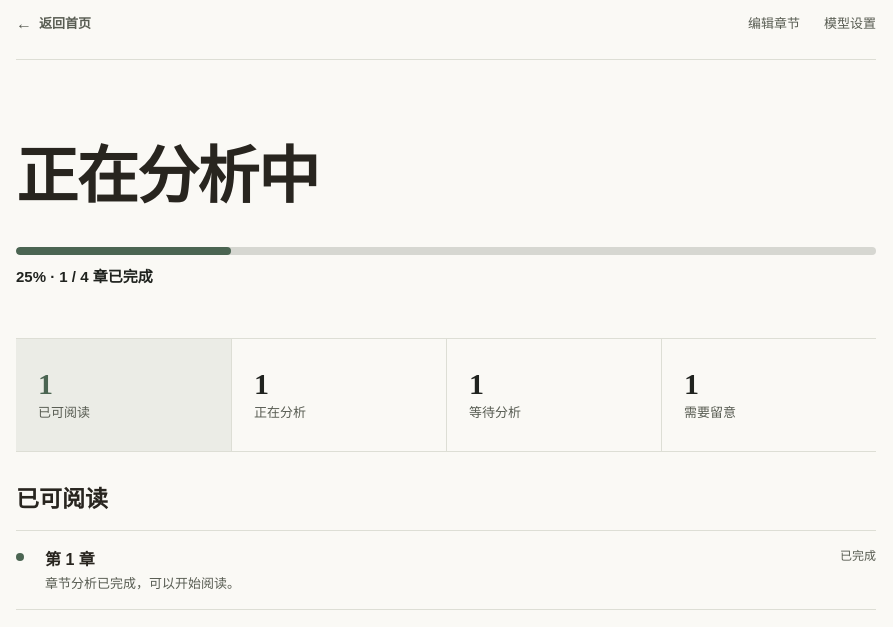
Scenario: OverviewPage analysis progress › omits redundant analysis progress copy
This screenshot has width=893, height=627.
Expected: the heading "正在分析中" is shown, [16,143,318,211]
Click the tab named "1正在分析": (338,395) [231,339,446,451]
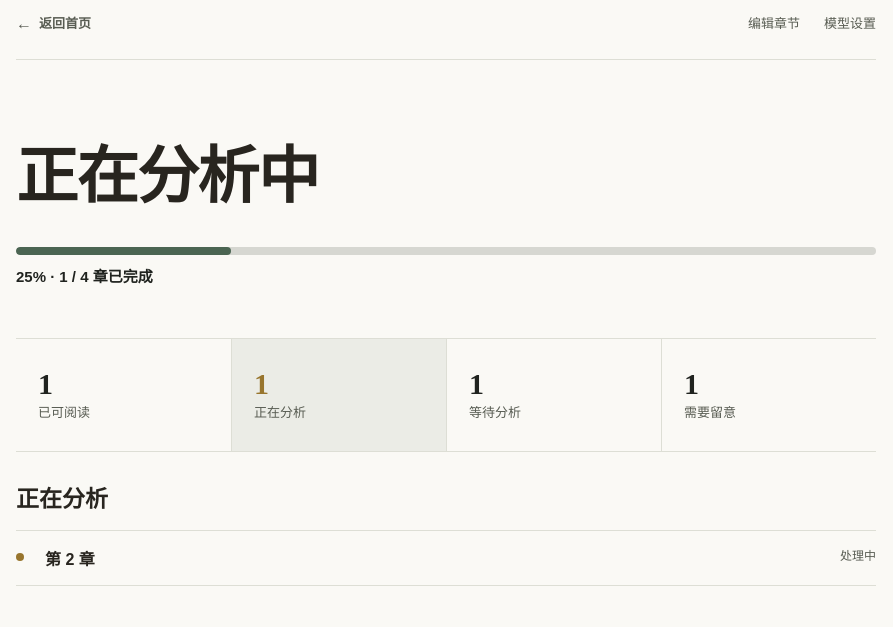
Expected: the panel named "1正在分析" shows "第 2 章", [45,551,95,568]
